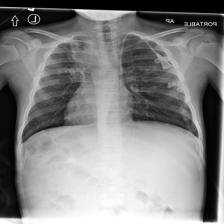normal: (15, 28, 204, 156)
